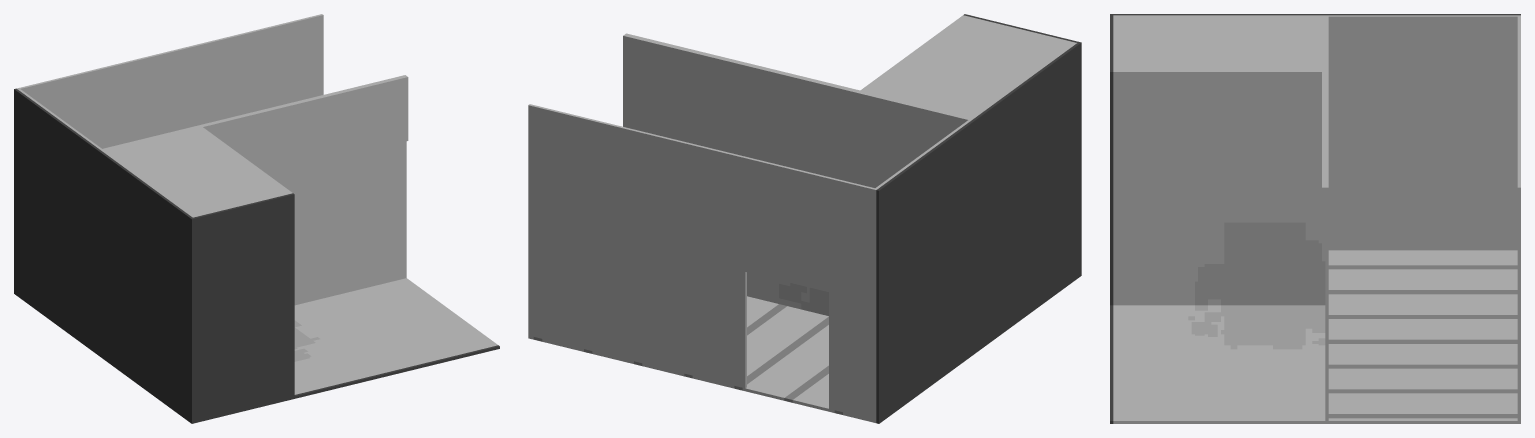
Rendered from 4x2 first (2)-3.obj.
3 views of the same model, side by side, from view 1: azimuth 30°, elevation 25°; view 2: azimuth 150°, elevation 25°; view 3: azimuth 270°, elevation 25° (orthographic). The views are drawn at different scales.
Visible parts, largest first — view 1: 4x2 first (2)-3; view 2: 4x2 first (2)-3; view 3: 4x2 first (2)-3.
Boxes of the visible parts, <box> form: 4x2 first (2)-3: <box>14,14,499,423</box>; 4x2 first (2)-3: <box>528,14,1081,423</box>; 4x2 first (2)-3: <box>1110,14,1520,423</box>.
Size of the model in its own units: 126 by 80 by 126.
Materials: 1 (1 with a texture image).
